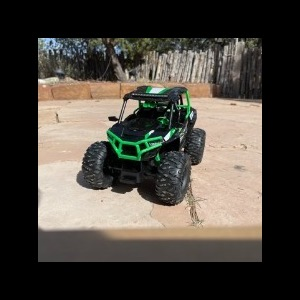polaris: (82, 85, 207, 208)
